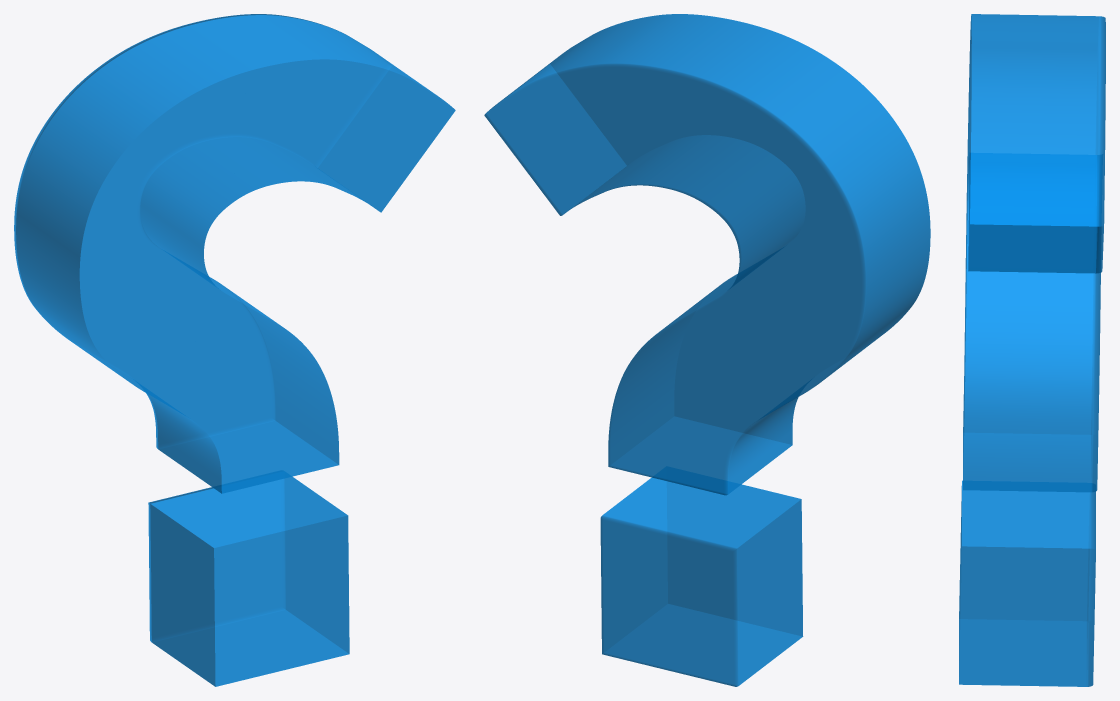
File: questionmark.gltf
3 renders of one model, left to right at view 1: azimuth 30°, elevation 25°; view 2: azimuth 150°, elevation 25°; view 3: azimuth 270°, elevation 25°, orthographic.
Visible parts, largest first — view 1: Object_2; view 2: Object_2; view 3: Object_2.
Part boxes in pixels (x1,y1,x2,y2): Object_2: [14, 14, 455, 686]; Object_2: [484, 14, 930, 686]; Object_2: [959, 14, 1105, 686].
Bounding box in the file's own units: 373 × 571 × 125.
